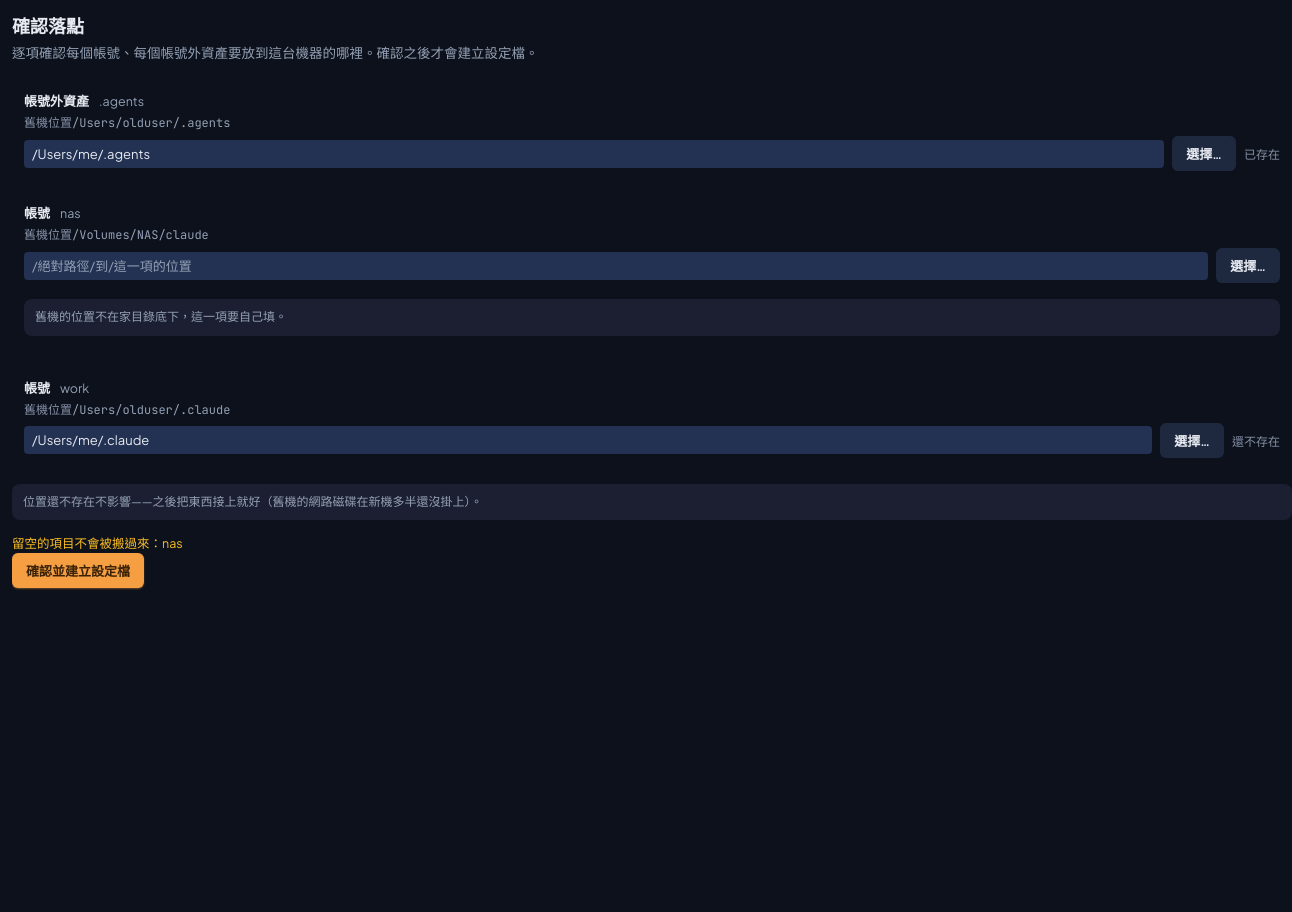
Test case: TargetsCard › 落點重疊 → 顯示映射後的說法
Expected: the field showing "/Users/me/.claude" below "/Users/olduser/.claude" is shown, [24,426,1152,454]
Click the button "確認並建立設定檔" at (78, 571), box [12,553,144,588]
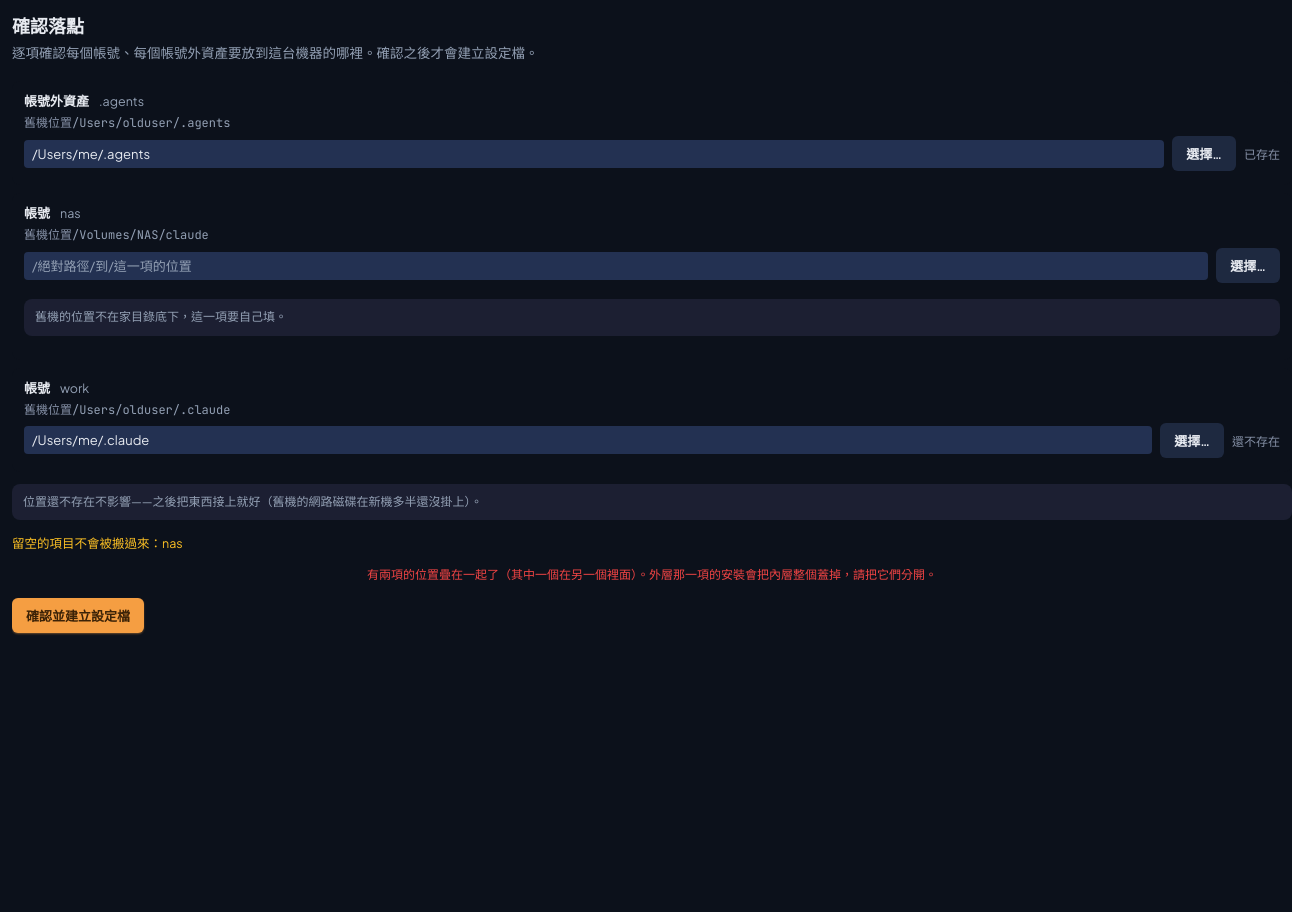
Result: the text "有兩項的位置疊在一起了（其中一個在另一個裡面）。外層那一項的安裝會把內層整個蓋掉，請把它們分開。" is shown at [367,567,937,582]
